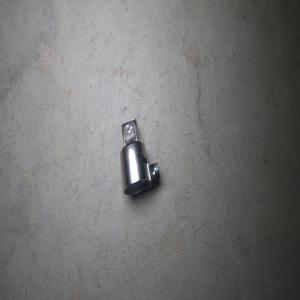MetalPart: (119, 118, 160, 195)
